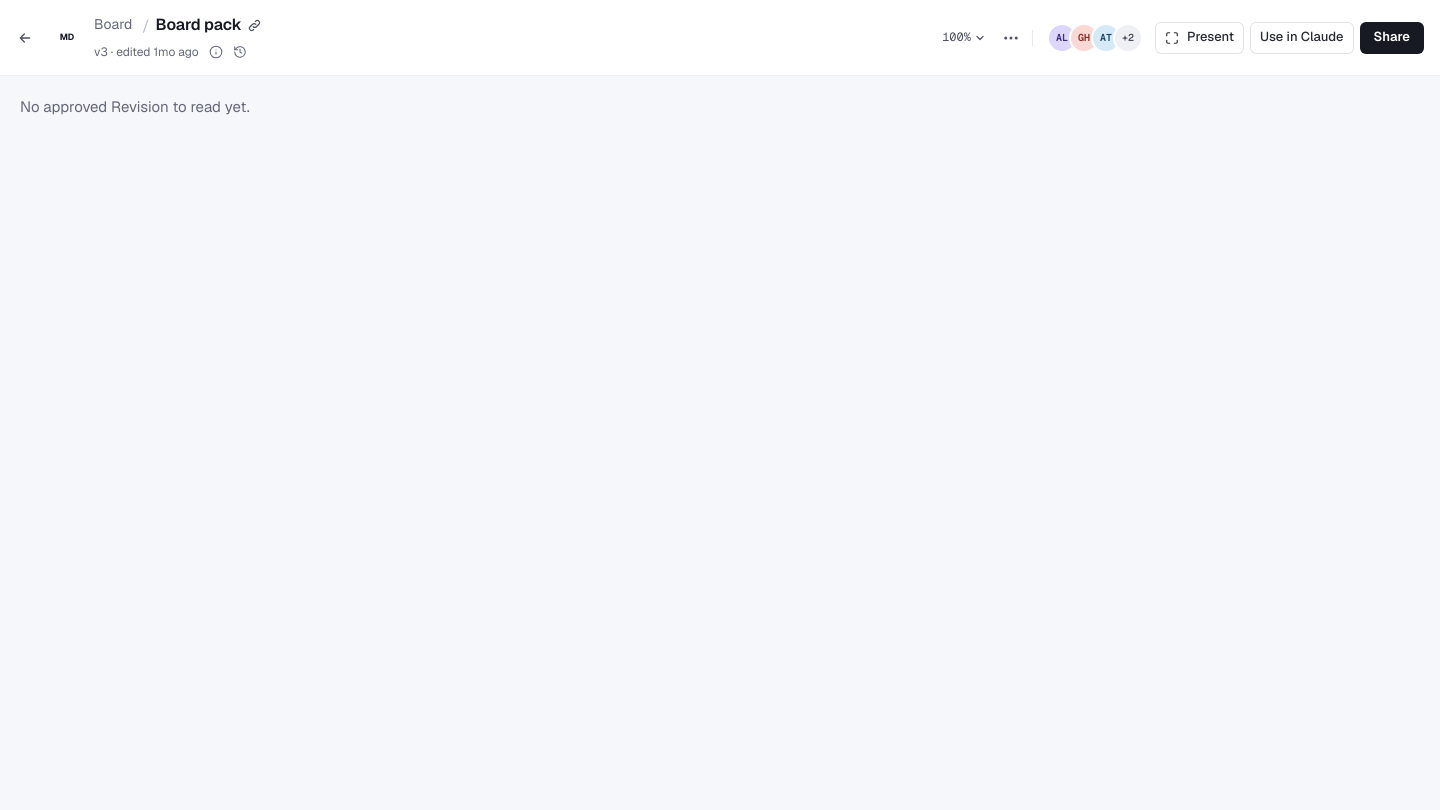
Scenario: PreviewPane header › stacks who the file is shared with before Present in full view, and opens Share from it
The image size is (1440, 810).
Step 1. Click the button with aria-label "Shared with" → (1095, 38), box 1043,22 -> 1147,54
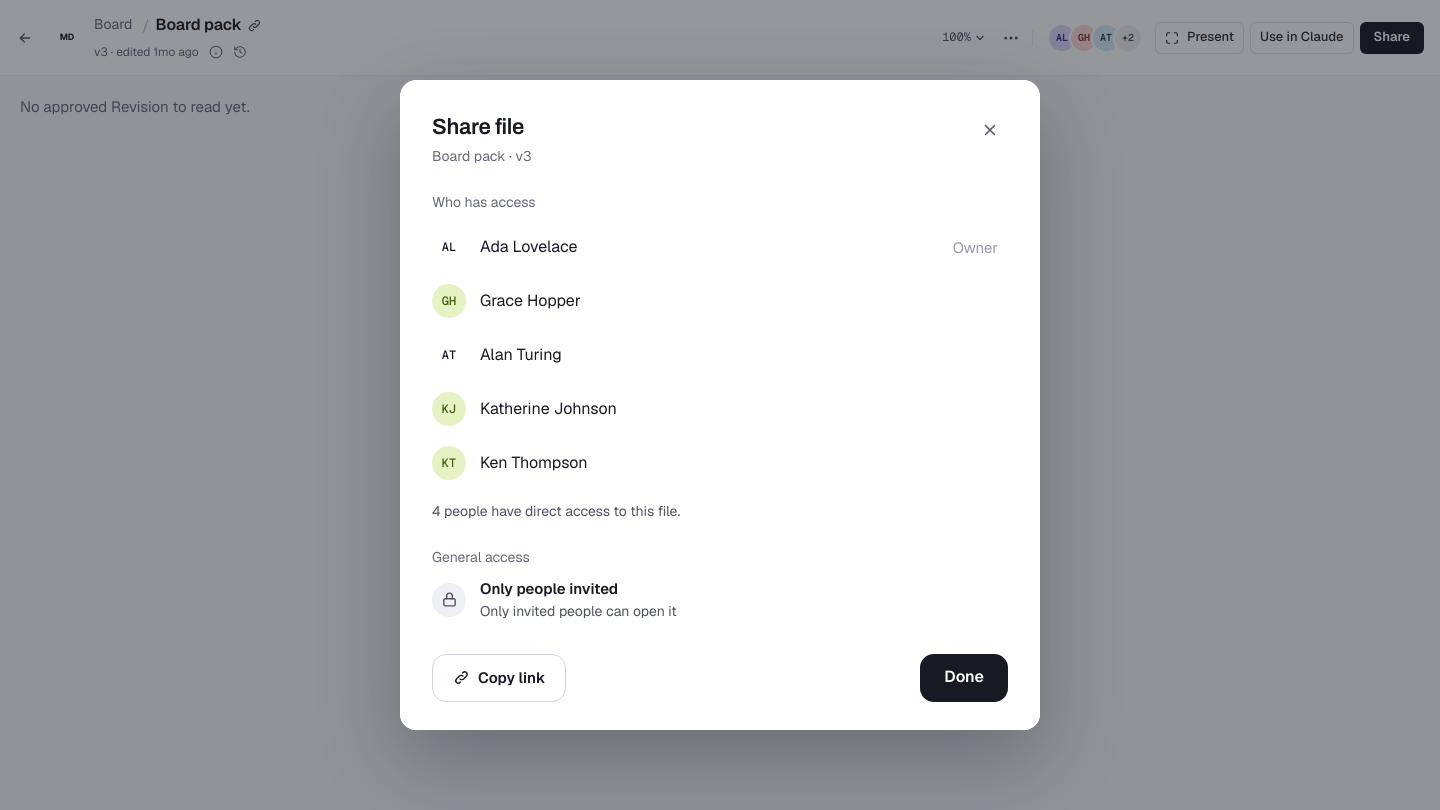
Check: the dialog is shown, box 400,80 -> 1040,730
